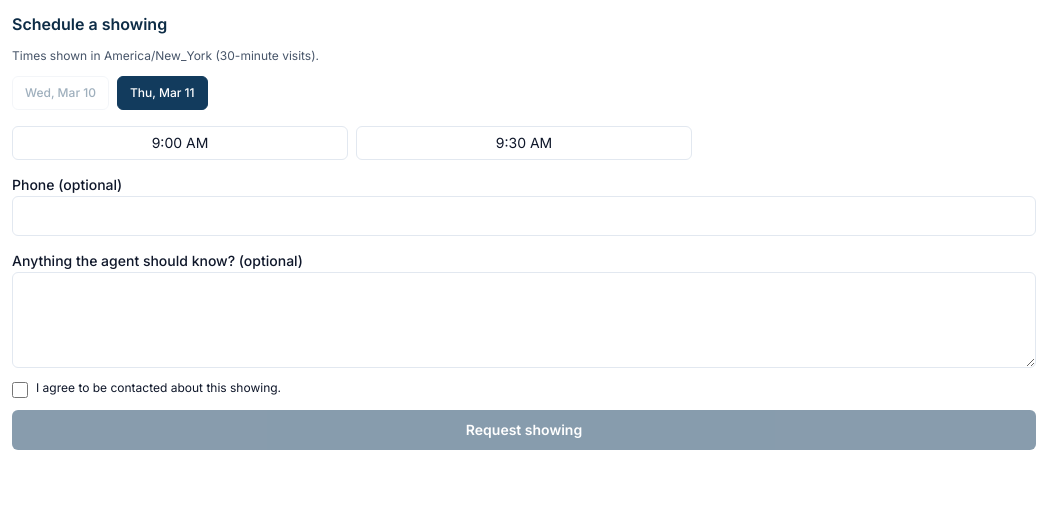
Test case: ShowingScheduler › requests the chosen slot with an idempotency key
Expected: the radio button labelled "Wed, Mar 10" is disabled, [12,76,109,110]
Step 1. Click the radio button labelled "9:30 AM" → (524, 143), box [356,126,692,160]
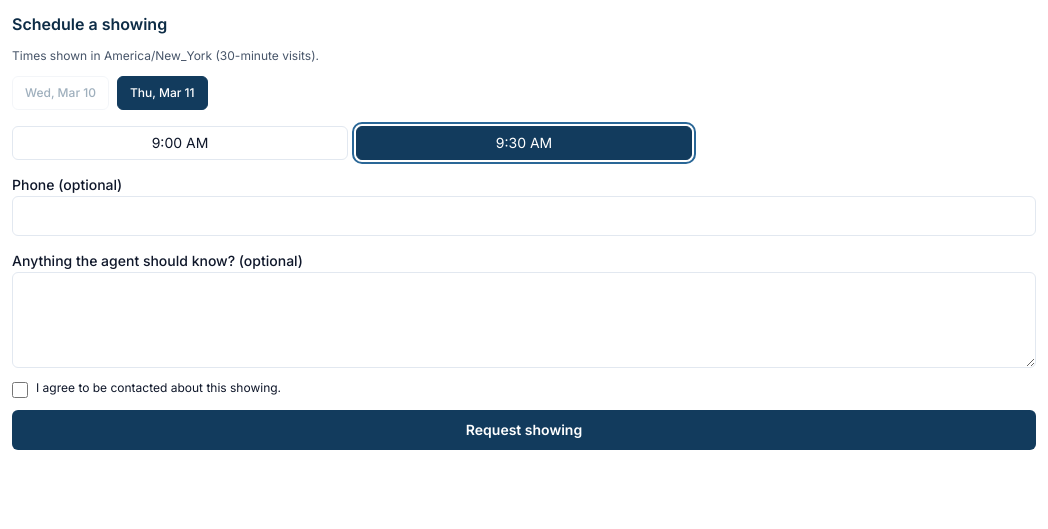
Step 2. Click the button "Request showing" → (524, 430), box [12,410,1036,450]
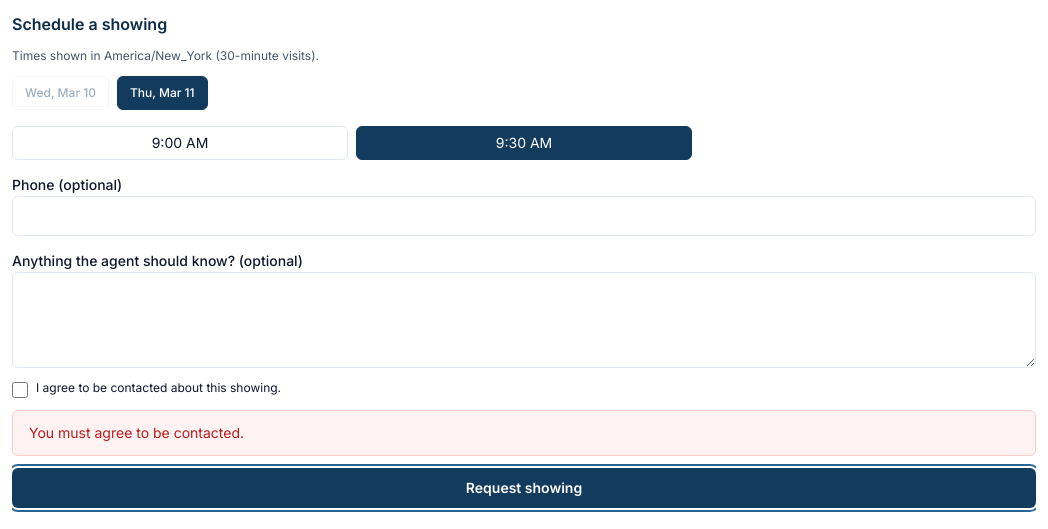
Result: the text "You must agree to be contacted." is shown at [12,410,1036,456]
Step 3. Click the checkbox labelled "I agree to be contacted about this showing." → (20, 390), box [12,382,28,398]
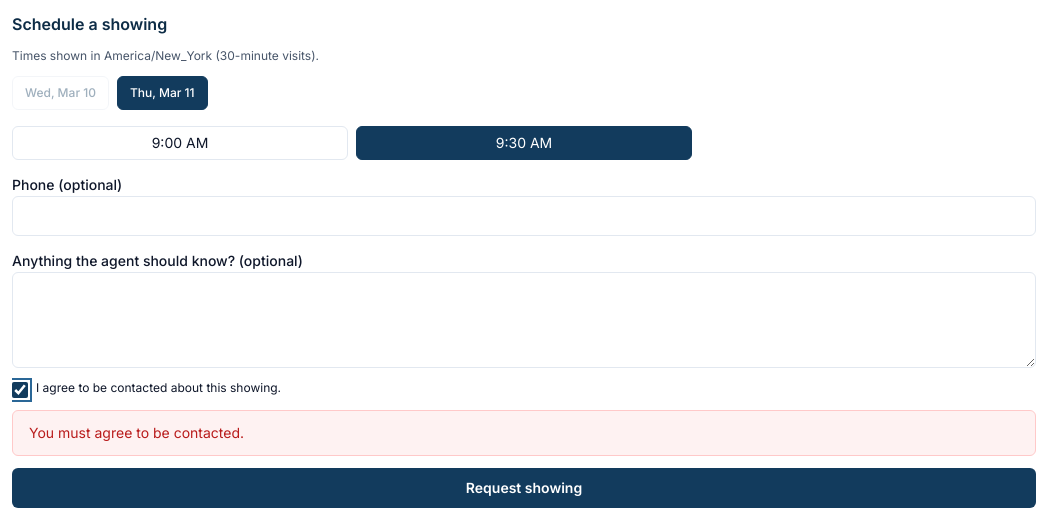
Step 4. Click the button "Request showing" → (524, 488), box [12,468,1036,508]
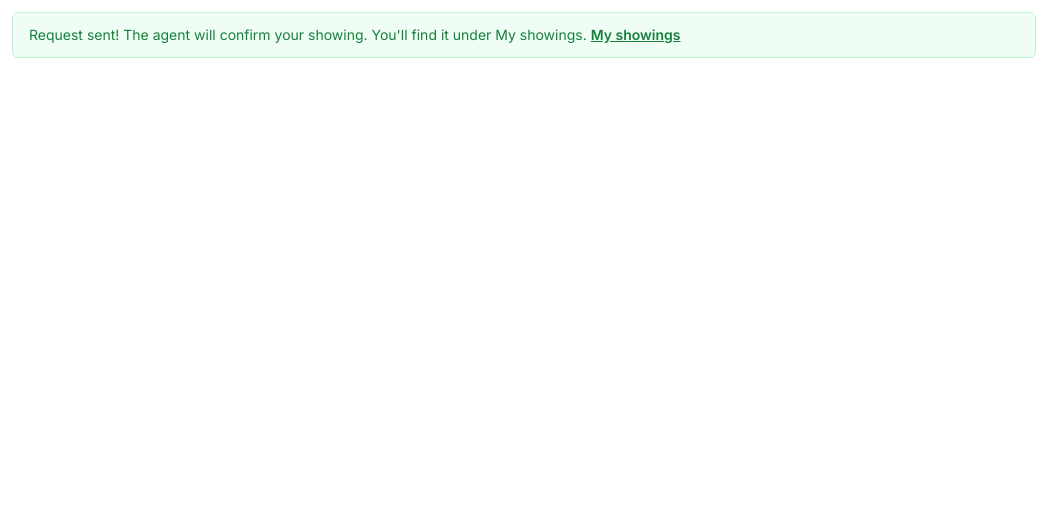
Result: the text "Request sent!" is shown at [29,26,587,43]
